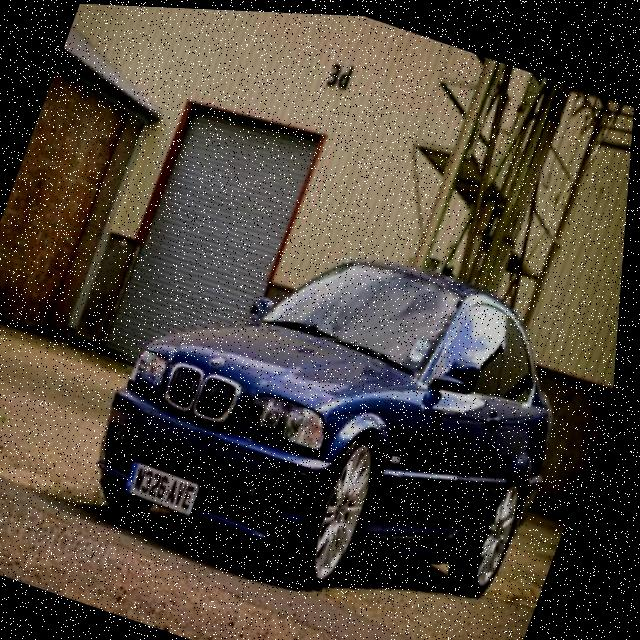license_plate: (126, 458, 208, 515)
